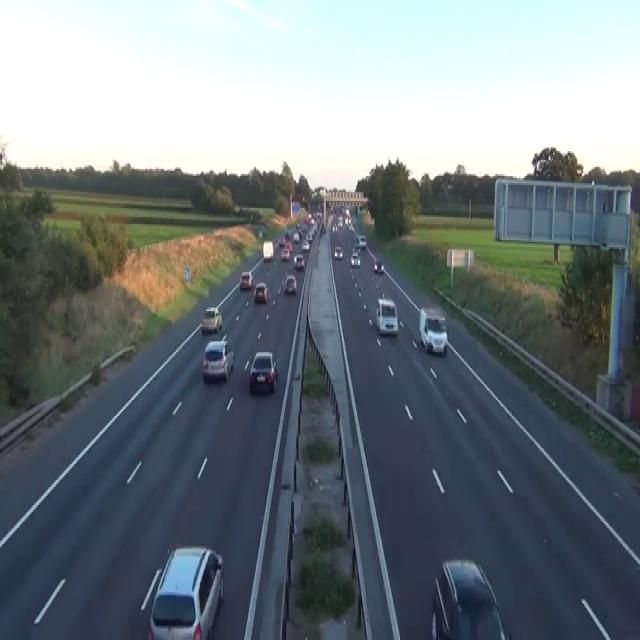Car: (148, 544, 224, 638), (431, 556, 510, 638), (202, 338, 234, 382), (419, 306, 448, 354), (248, 350, 278, 393), (375, 297, 398, 336), (201, 306, 222, 334), (254, 281, 269, 304), (239, 270, 253, 290), (283, 274, 297, 293), (293, 252, 304, 268), (333, 243, 343, 260), (350, 250, 360, 266), (373, 260, 384, 274), (280, 247, 289, 261), (358, 235, 366, 247), (441, 182, 453, 190), (353, 242, 362, 252), (285, 240, 293, 251), (301, 240, 309, 251), (337, 215, 343, 228), (293, 231, 300, 242), (306, 231, 313, 242), (278, 235, 285, 245), (331, 222, 337, 233), (284, 230, 291, 238), (321, 222, 326, 233), (348, 224, 354, 233), (258, 228, 262, 238), (441, 182, 446, 190)
Truck: (262, 240, 273, 260)
